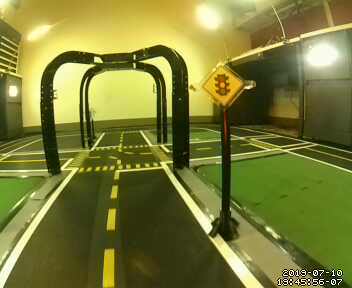Traffic light sign: (204, 64, 245, 106)
